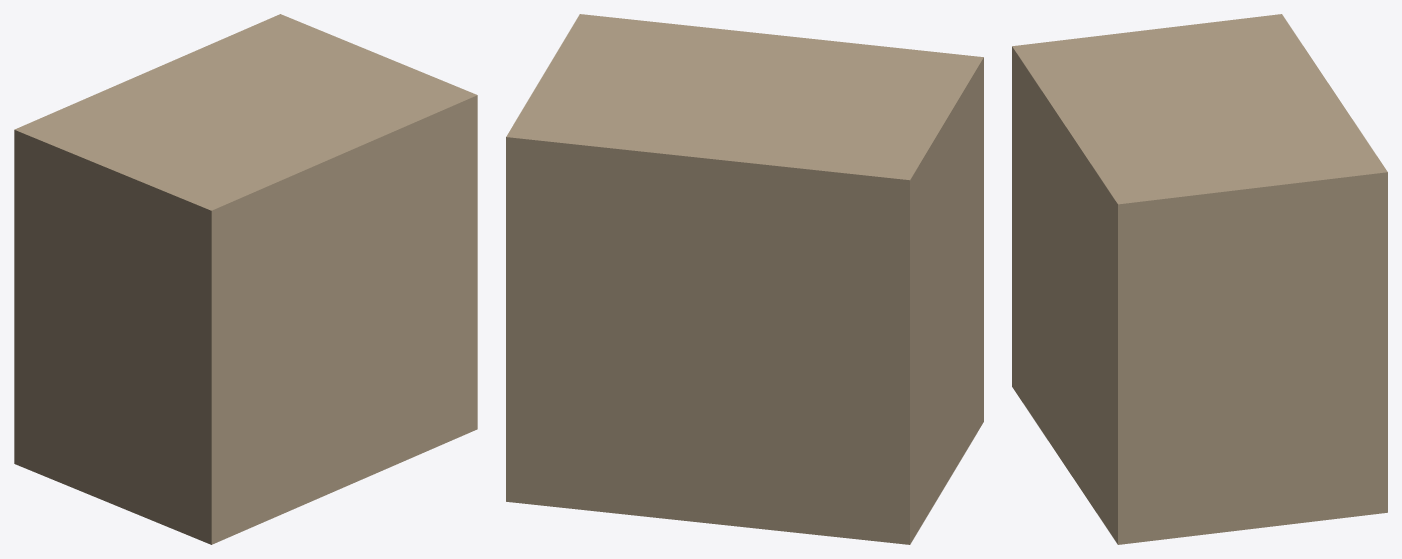
The model's file is bld_106456144.dae.
The picture shows the model from 3 angles, left to right: view 1: azimuth 30°, elevation 25°; view 2: azimuth 150°, elevation 25°; view 3: azimuth 270°, elevation 25°; orthographic projection. The views are drawn at different scales.
Parts seen in each view (by area): view 1: bld_106456144; view 2: bld_106456144; view 3: bld_106456144.
Part boxes in pixels (x1,y1,x2,y2): bld_106456144: (14,14,477,544); bld_106456144: (506,14,983,544); bld_106456144: (1012,14,1387,544).
Bounding box in the file's own units: 9.6 × 8 × 8.
